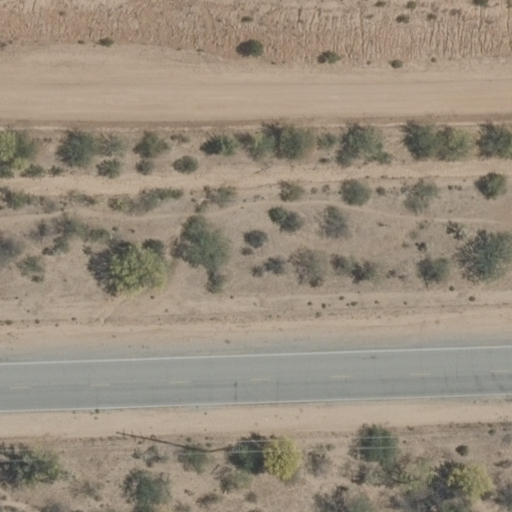DT: (191, 434, 251, 461)
